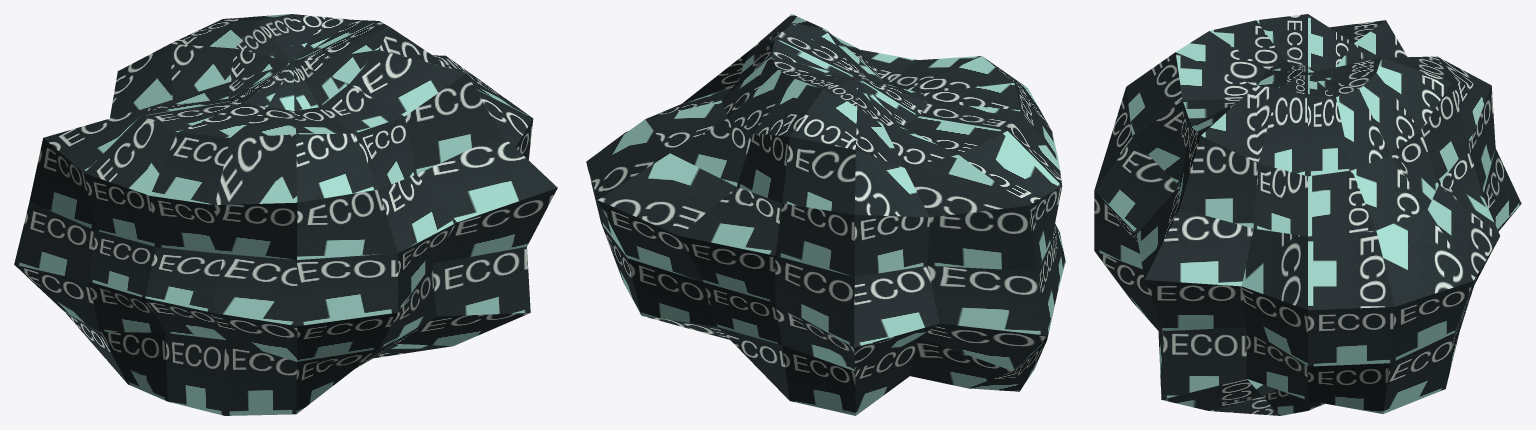
Rendered from rock_large_LOD0.obj.
3 renders of one model, left to right at view 1: azimuth 30°, elevation 25°; view 2: azimuth 150°, elevation 25°; view 3: azimuth 270°, elevation 25°, orthographic. The views are drawn at different scales.
Visible parts, largest first — view 1: L02_rock_large_LOD0; view 2: L02_rock_large_LOD0; view 3: L02_rock_large_LOD0.
Boxes of the visible parts, x1,y1,x2,y2 form: L02_rock_large_LOD0: (14, 14, 557, 415); L02_rock_large_LOD0: (586, 14, 1065, 415); L02_rock_large_LOD0: (1094, 14, 1521, 415).
Bounding box in the file's own units: 6.43 × 4.24 × 4.88.
Materials: 1 (1 with a texture image).
